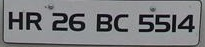character: (50, 11, 69, 32), (67, 11, 86, 32), (137, 11, 155, 33), (24, 10, 42, 31), (95, 12, 113, 33), (153, 12, 171, 33), (177, 13, 195, 33), (7, 10, 24, 31), (113, 12, 128, 33), (170, 12, 177, 33)
